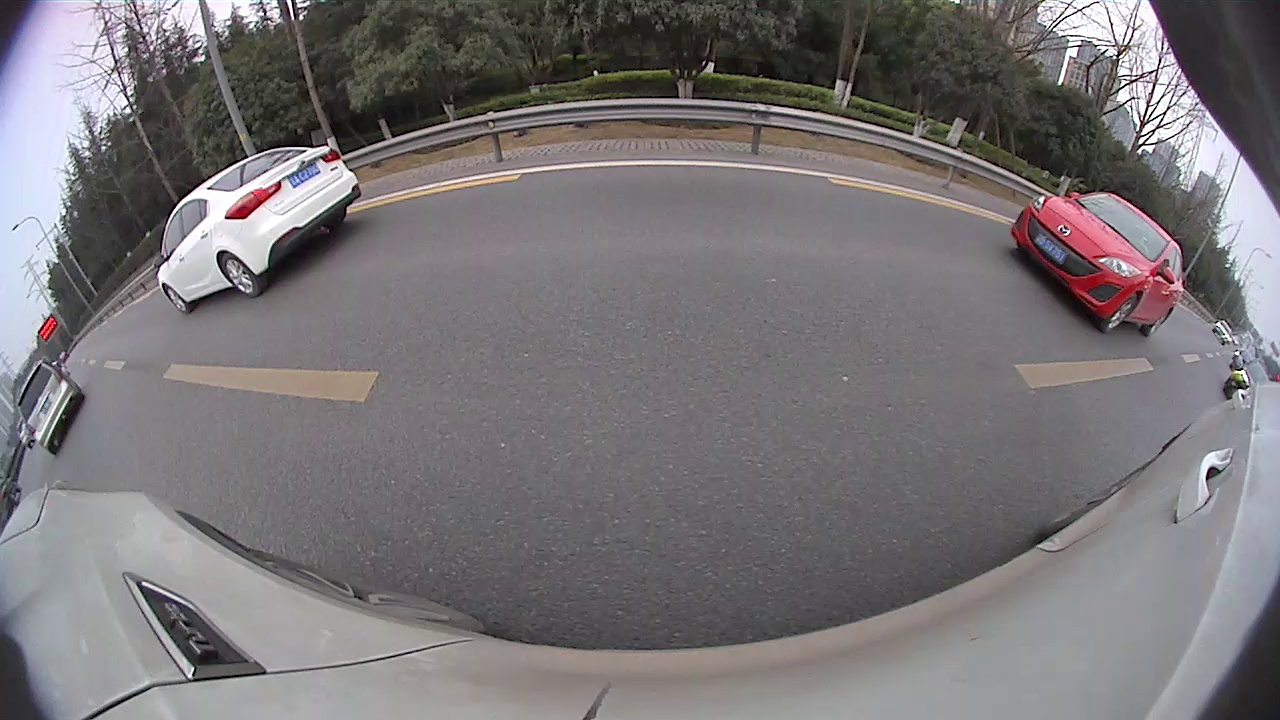bus: (894, 138, 1243, 281), (734, 129, 814, 193)
car: (915, 182, 1279, 426), (1, 264, 245, 491), (241, 121, 504, 289), (600, 139, 695, 213), (907, 182, 1017, 222), (491, 152, 567, 203), (807, 166, 852, 199), (556, 159, 595, 190)
front: (105, 329, 205, 439), (922, 212, 962, 264), (479, 184, 505, 228)
rear: (1123, 308, 1194, 401), (373, 204, 423, 270), (544, 181, 554, 202)
